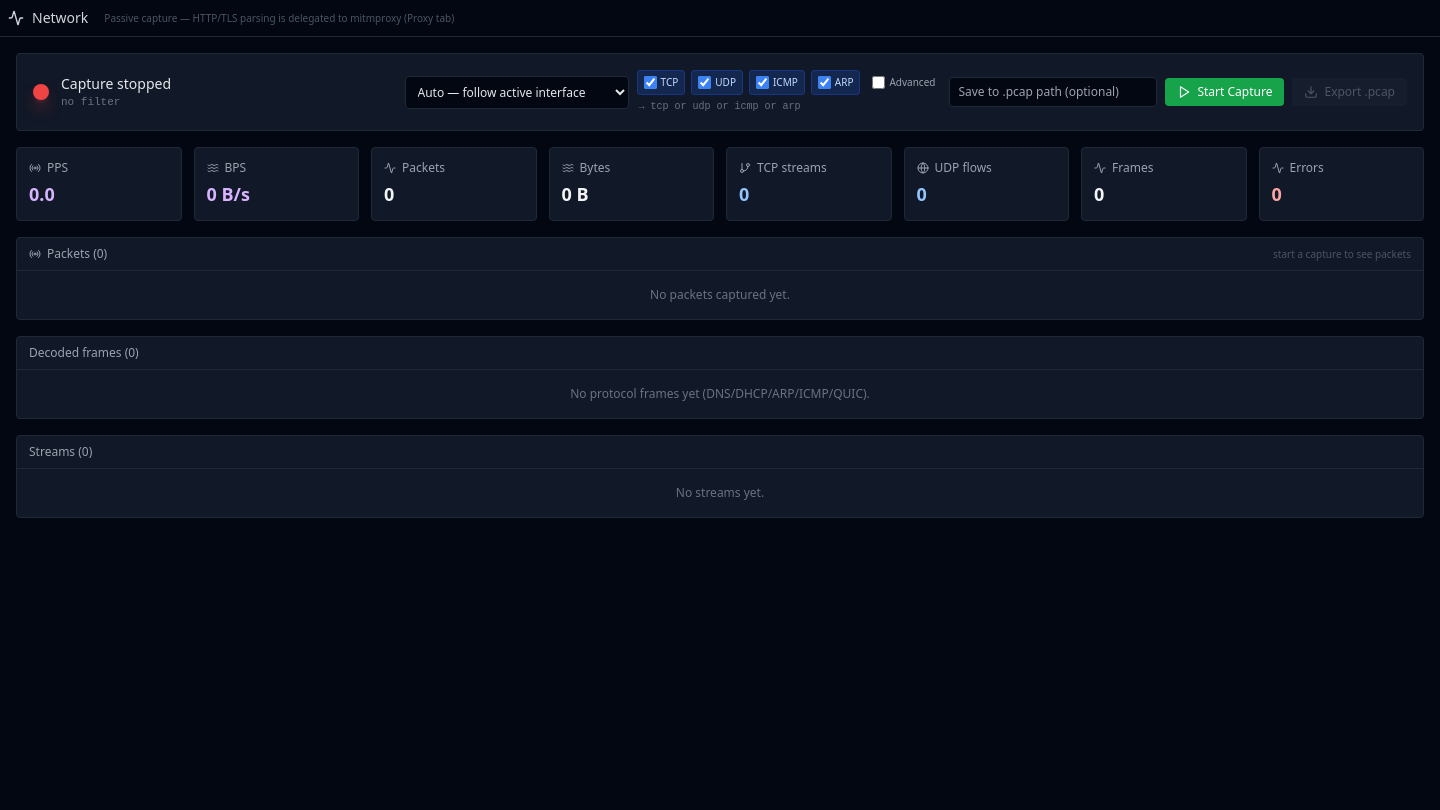
Test case: Network — capture visibility warnings (virtual adapter + single-host filter) › warns live while typing a host filter in Advanced mode
expect the dropdown is shown: met, box [404,76,628,108]
Click the checkbox named "Advanced BPF" at (879, 82), box [872,76,886,89]
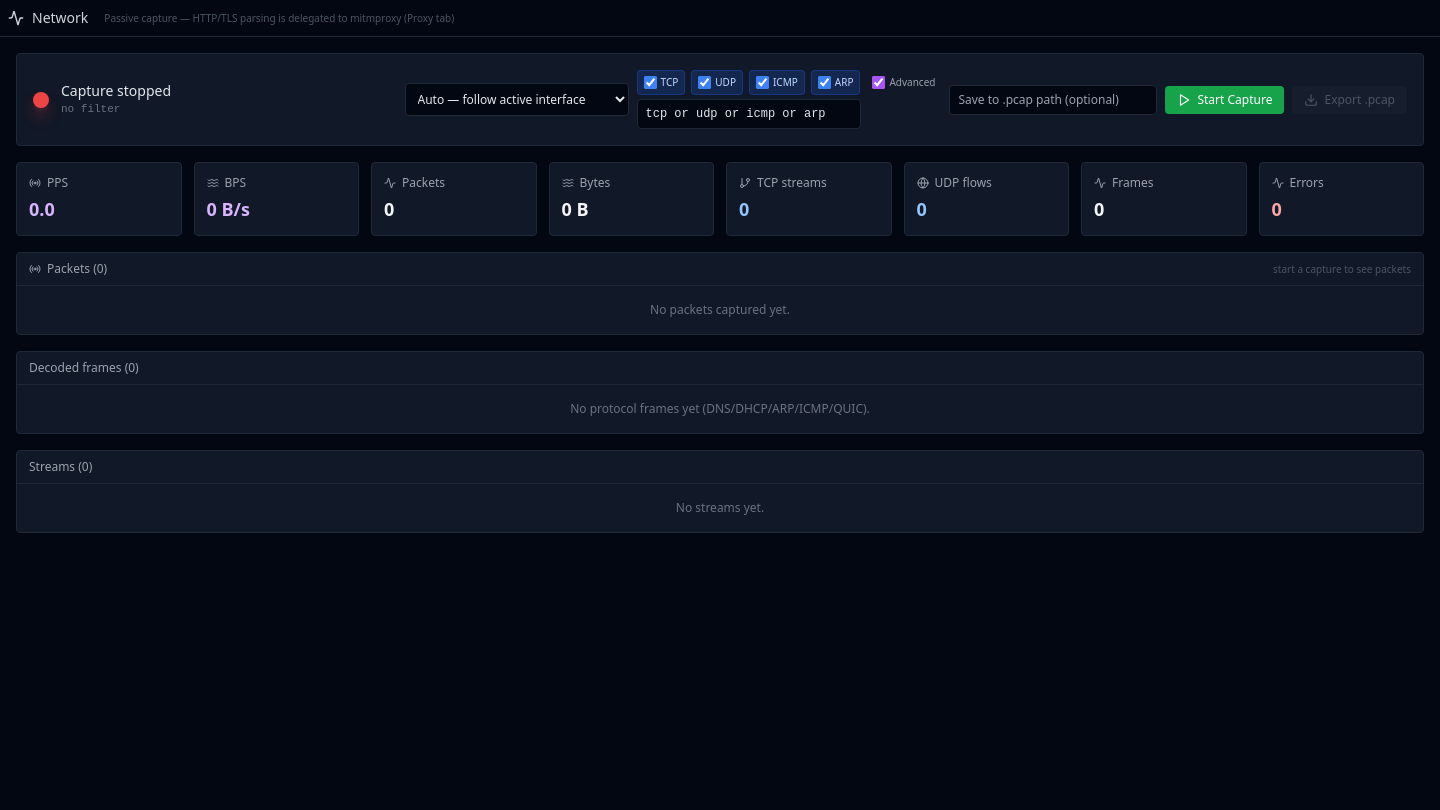
Replace the text in the field with placeholder "raw BPF, e.g. tcp port 443 or arp" with "host 93.184.216.34" at (748, 114), box [636,99,860,129]
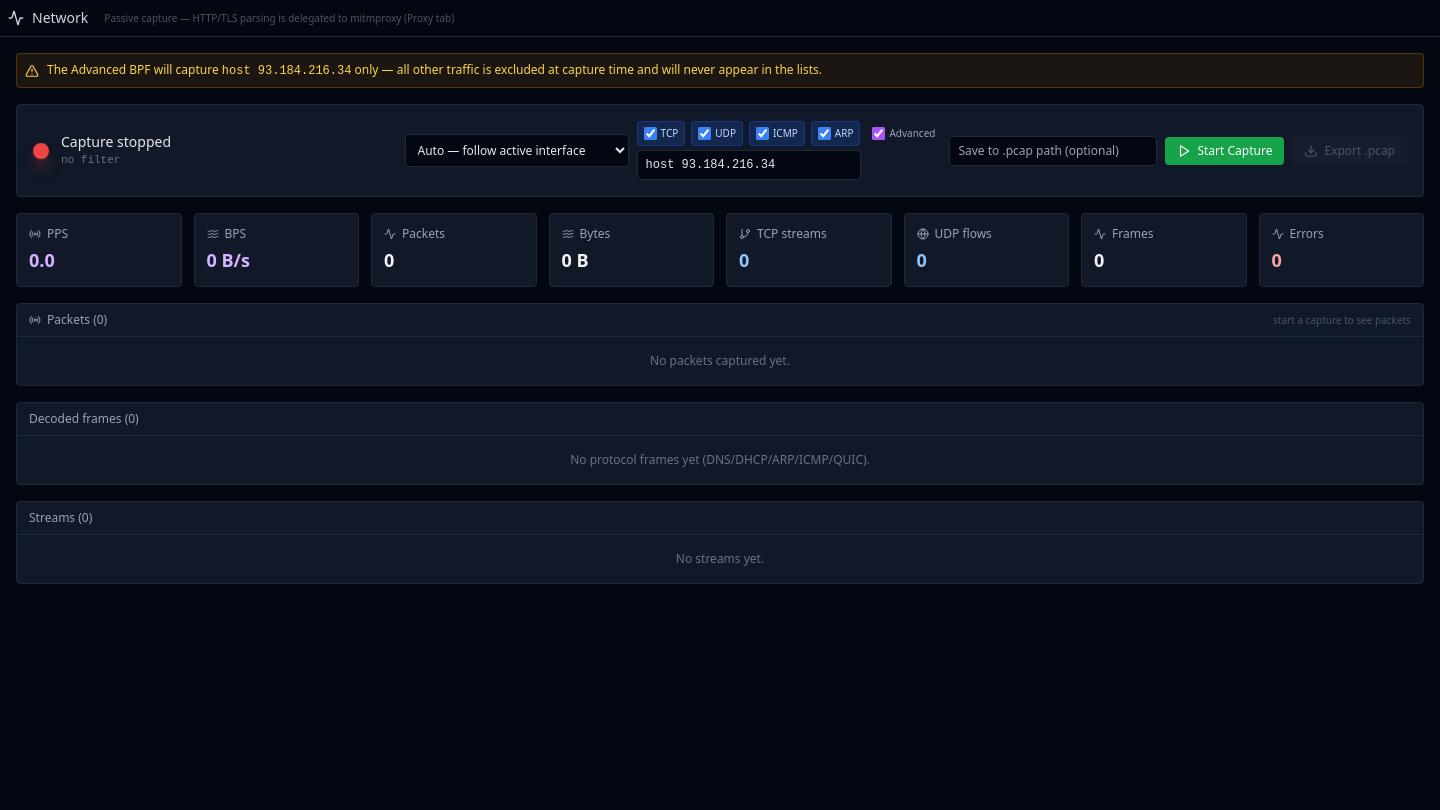
expect the message shows "host 93.184.216.34": met, box [16,53,1424,88]
